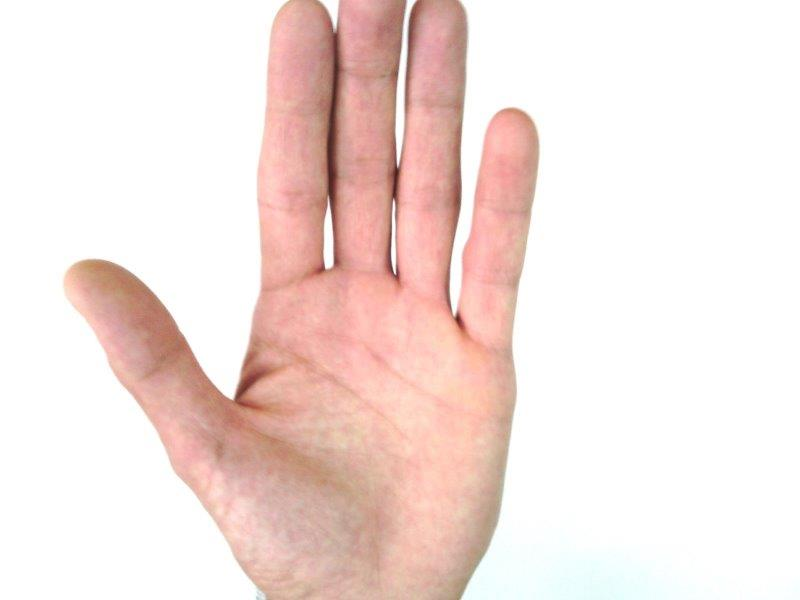hand: (64, 3, 538, 598)
